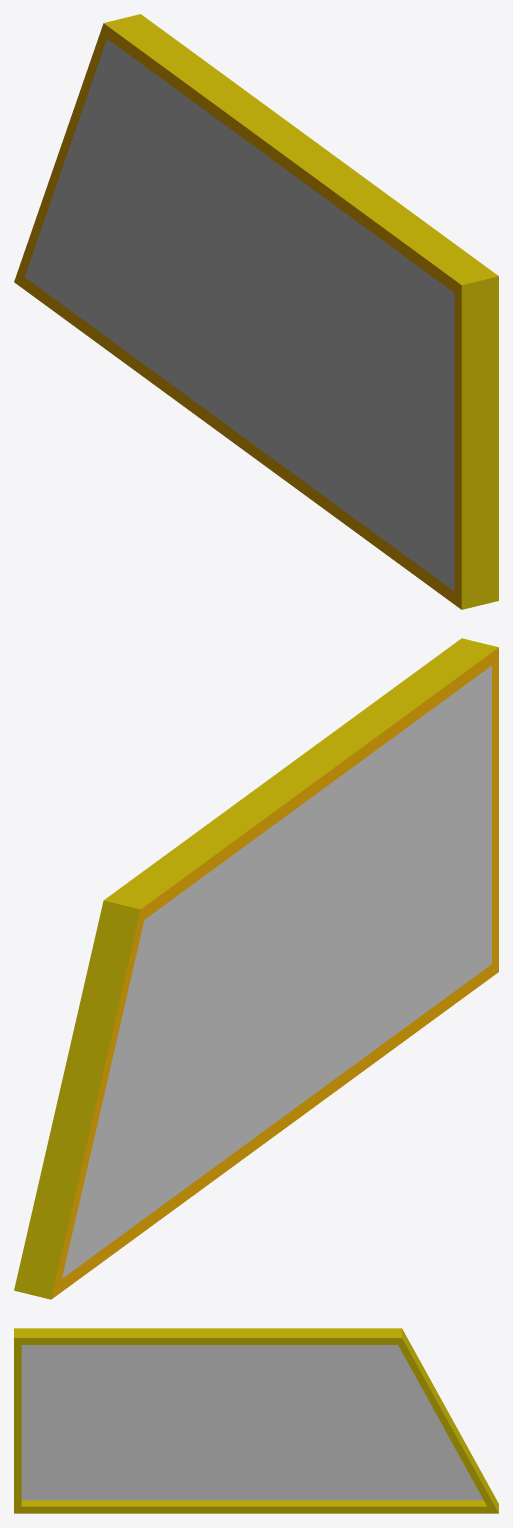
The model's file is window_slanted_connection_4x1x2.dae.
3 views of the same model, one above another, from view 1: azimuth 30°, elevation 25°; view 2: azimuth 150°, elevation 25°; view 3: azimuth 270°, elevation 25° (orthographic). The views are drawn at different scales.
Parts seen in each view (by area): view 1: Cube; view 2: Cube; view 3: Cube.
Part boxes in pixels (bbox=[...]): Cube: bbox=[14, 14, 498, 609]; Cube: bbox=[14, 638, 498, 1299]; Cube: bbox=[14, 1328, 498, 1513].
Size of the model in its own units: 0.06 by 1.25 by 0.5.
